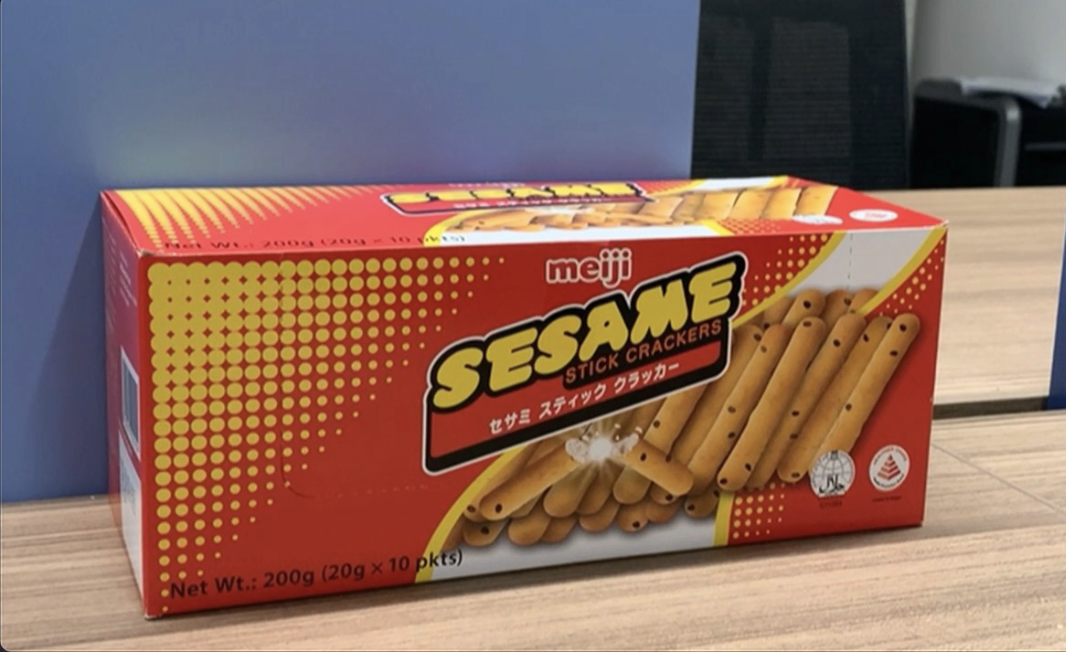crackers_200g-299g: (158, 247, 924, 594)
